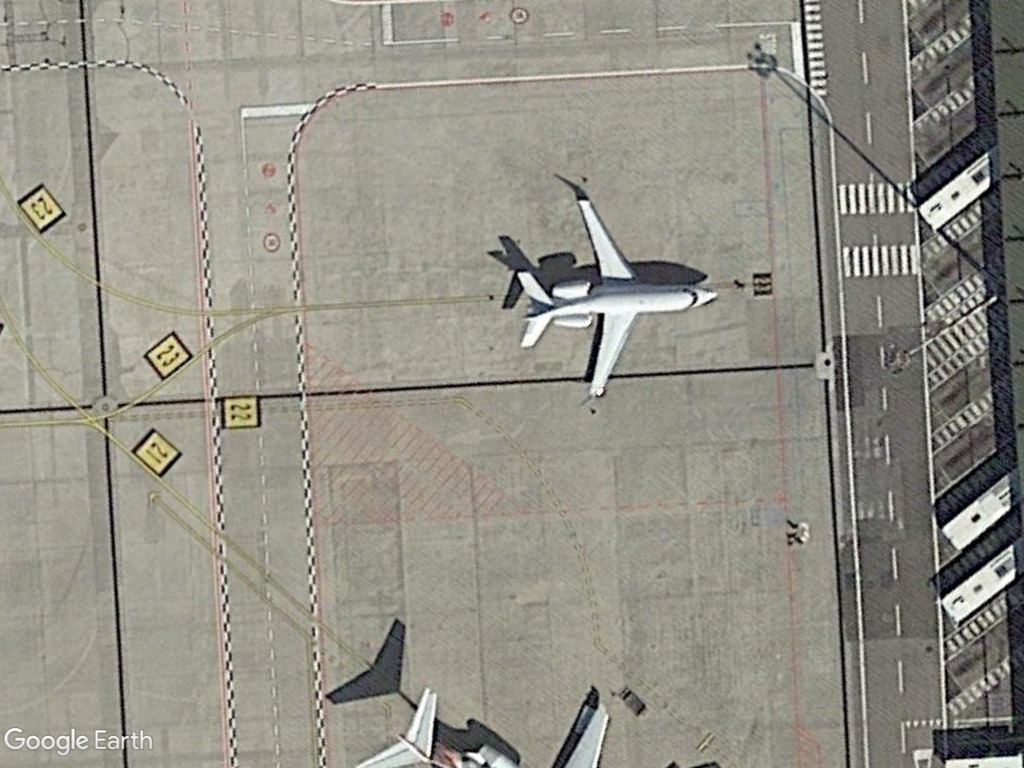chartered: (507, 197, 725, 408)
